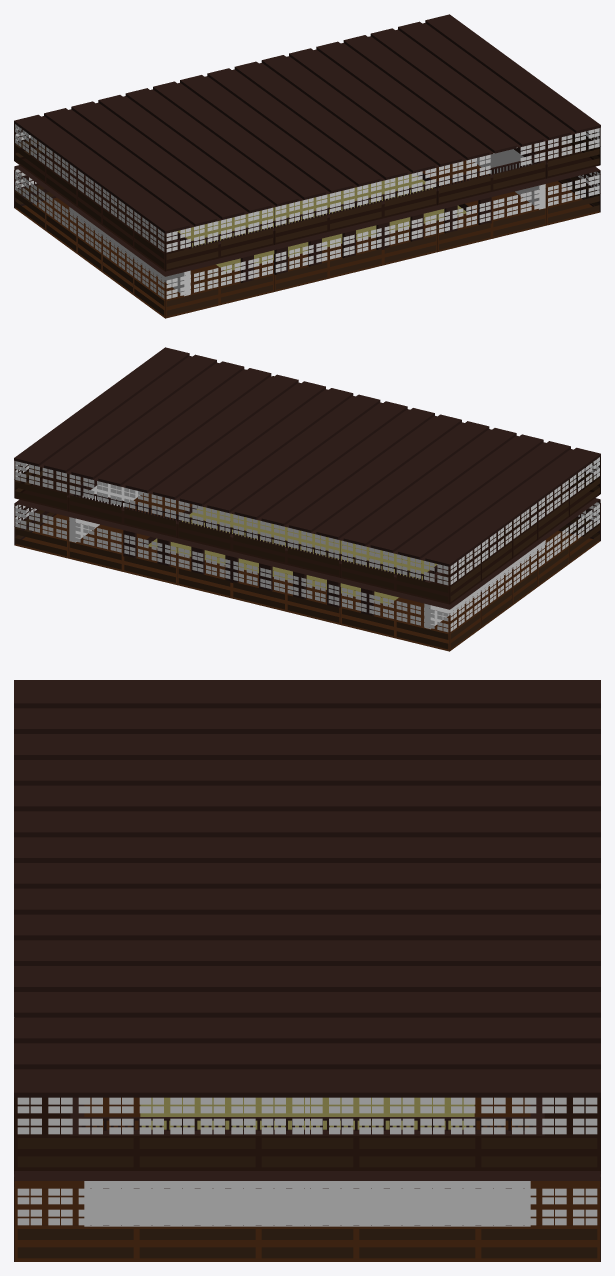
The model's file is dojo.fbx.
3 views of the same model, one above another, from view 1: azimuth 30°, elevation 25°; view 2: azimuth 150°, elevation 25°; view 3: azimuth 270°, elevation 25° (orthographic). The views are drawn at different scales.
Visible parts, largest first — view 1: Ceiling, Floor 1, Floor 1 Back Panels, Floor 2 Back Panels, Floor 2, Floor 1 Wall 4 Windows, Floor 2 Wall 4 Windows, Floor Mat, Floor 1 Ceiling, Floor 2 Wall 1 Windows, Floor 1 Wall 1 Windows, Railing (+5 smaller); view 2: Ceiling, Floor 1, Floor 1 Back Panels, Floor 2 Back Panels, Floor 2, Floor 2 Wall 2 Windows, Floor 1 Wall 2 Windows, Floor Mat, Floor 1 Ceiling, Floor 2 Wall 1 Windows, Floor 1 Wall 1 Windows, Railing (+5 smaller); view 3: Ceiling, Floor 1, Floor 2 Wall 3 Windows, Floor 1 Wall 3 Windows, Floor 2 Back Panels, Floor 1 Back Panels, Floor 1 Wall Front, Floor 2, Floor 1 Ceiling, Floor Mat, Railing.
Part boxes in pixels (left/top/right/bottom): Ceiling: left=14, top=14, right=600, bottom=233; Floor 1: left=14, top=160, right=600, bottom=318; Floor 1 Back Panels: left=15, top=177, right=599, bottom=316; Floor 2 Back Panels: left=15, top=134, right=599, bottom=269; Floor 2: left=14, top=137, right=599, bottom=271; Floor 1 Wall 4 Windows: left=166, top=175, right=599, bottom=299; Floor 2 Wall 4 Windows: left=166, top=128, right=599, bottom=252; Floor Mat: left=177, top=174, right=466, bottom=271; Floor 1 Ceiling: left=14, top=165, right=600, bottom=276; Floor 2 Wall 1 Windows: left=15, top=124, right=164, bottom=251; Floor 1 Wall 1 Windows: left=15, top=171, right=164, bottom=298; Railing: left=68, top=146, right=547, bottom=249; Ceiling: left=14, top=347, right=600, bottom=566; Floor 1: left=14, top=493, right=600, bottom=651; Floor 1 Back Panels: left=15, top=510, right=599, bottom=649; Floor 2 Back Panels: left=15, top=467, right=599, bottom=602; Floor 2: left=15, top=470, right=600, bottom=604; Floor 2 Wall 2 Windows: left=15, top=461, right=448, bottom=585; Floor 1 Wall 2 Windows: left=15, top=508, right=448, bottom=632; Floor Mat: left=148, top=507, right=437, bottom=604; Floor 1 Ceiling: left=14, top=498, right=600, bottom=609; Floor 2 Wall 1 Windows: left=450, top=457, right=599, bottom=584; Floor 1 Wall 1 Windows: left=450, top=504, right=599, bottom=631; Railing: left=67, top=479, right=546, bottom=582; Ceiling: left=14, top=680, right=600, bottom=1097; Floor 1: left=14, top=1097, right=600, bottom=1261; Floor 2 Wall 3 Windows: left=17, top=1097, right=597, bottom=1134; Floor 1 Wall 3 Windows: left=17, top=1188, right=597, bottom=1225; Floor 2 Back Panels: left=17, top=1138, right=597, bottom=1167; Floor 1 Back Panels: left=17, top=1229, right=597, bottom=1258; Floor 1 Wall Front: left=84, top=1181, right=530, bottom=1226; Floor 2: left=14, top=1097, right=600, bottom=1170; Floor 1 Ceiling: left=14, top=1171, right=600, bottom=1180; Floor Mat: left=140, top=1097, right=474, bottom=1129; Railing: left=70, top=1097, right=544, bottom=1135.
Bounding box in the file's own units: 3500 × 720 × 2105.
